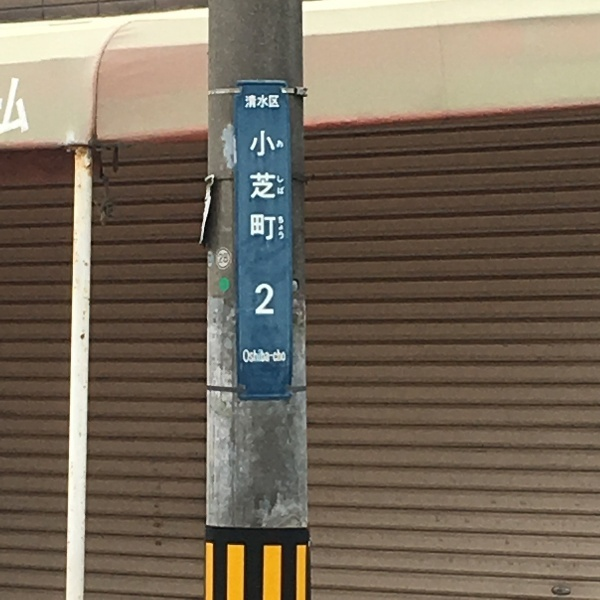text: (257, 131, 272, 241), (1, 79, 16, 136), (17, 79, 29, 136), (250, 131, 256, 241), (257, 284, 272, 315), (273, 131, 276, 241), (278, 216, 288, 240), (277, 175, 288, 196), (257, 95, 272, 109), (257, 349, 272, 363), (243, 349, 256, 363), (273, 349, 286, 363), (245, 95, 256, 109), (276, 139, 288, 148), (273, 95, 280, 109), (218, 253, 224, 263), (255, 284, 256, 315), (273, 284, 274, 315), (225, 253, 228, 263)
